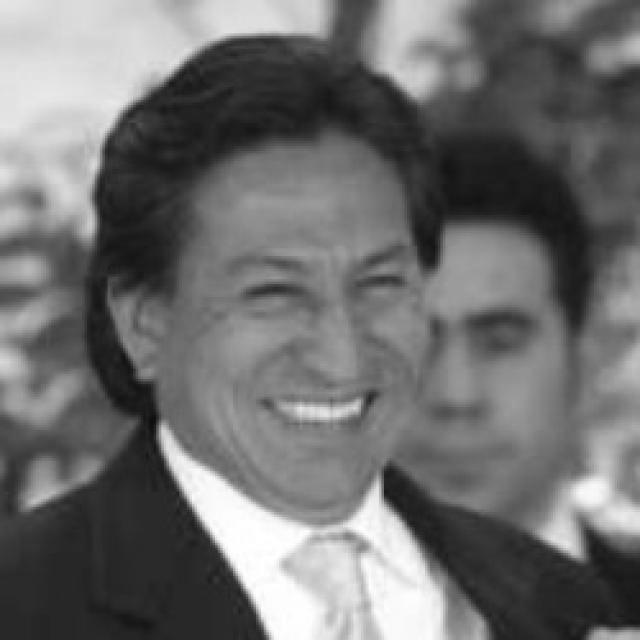real: (170, 142, 426, 518), (237, 266, 410, 314)
